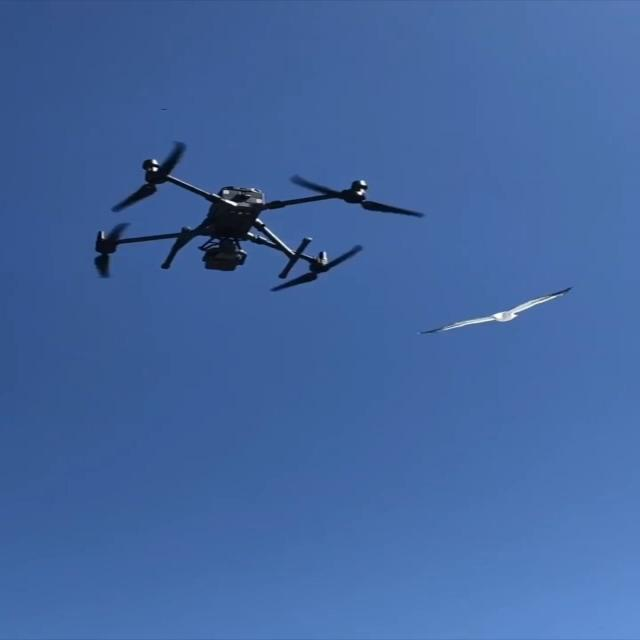bird: (415, 286, 573, 334)
drone: (92, 140, 425, 292)
